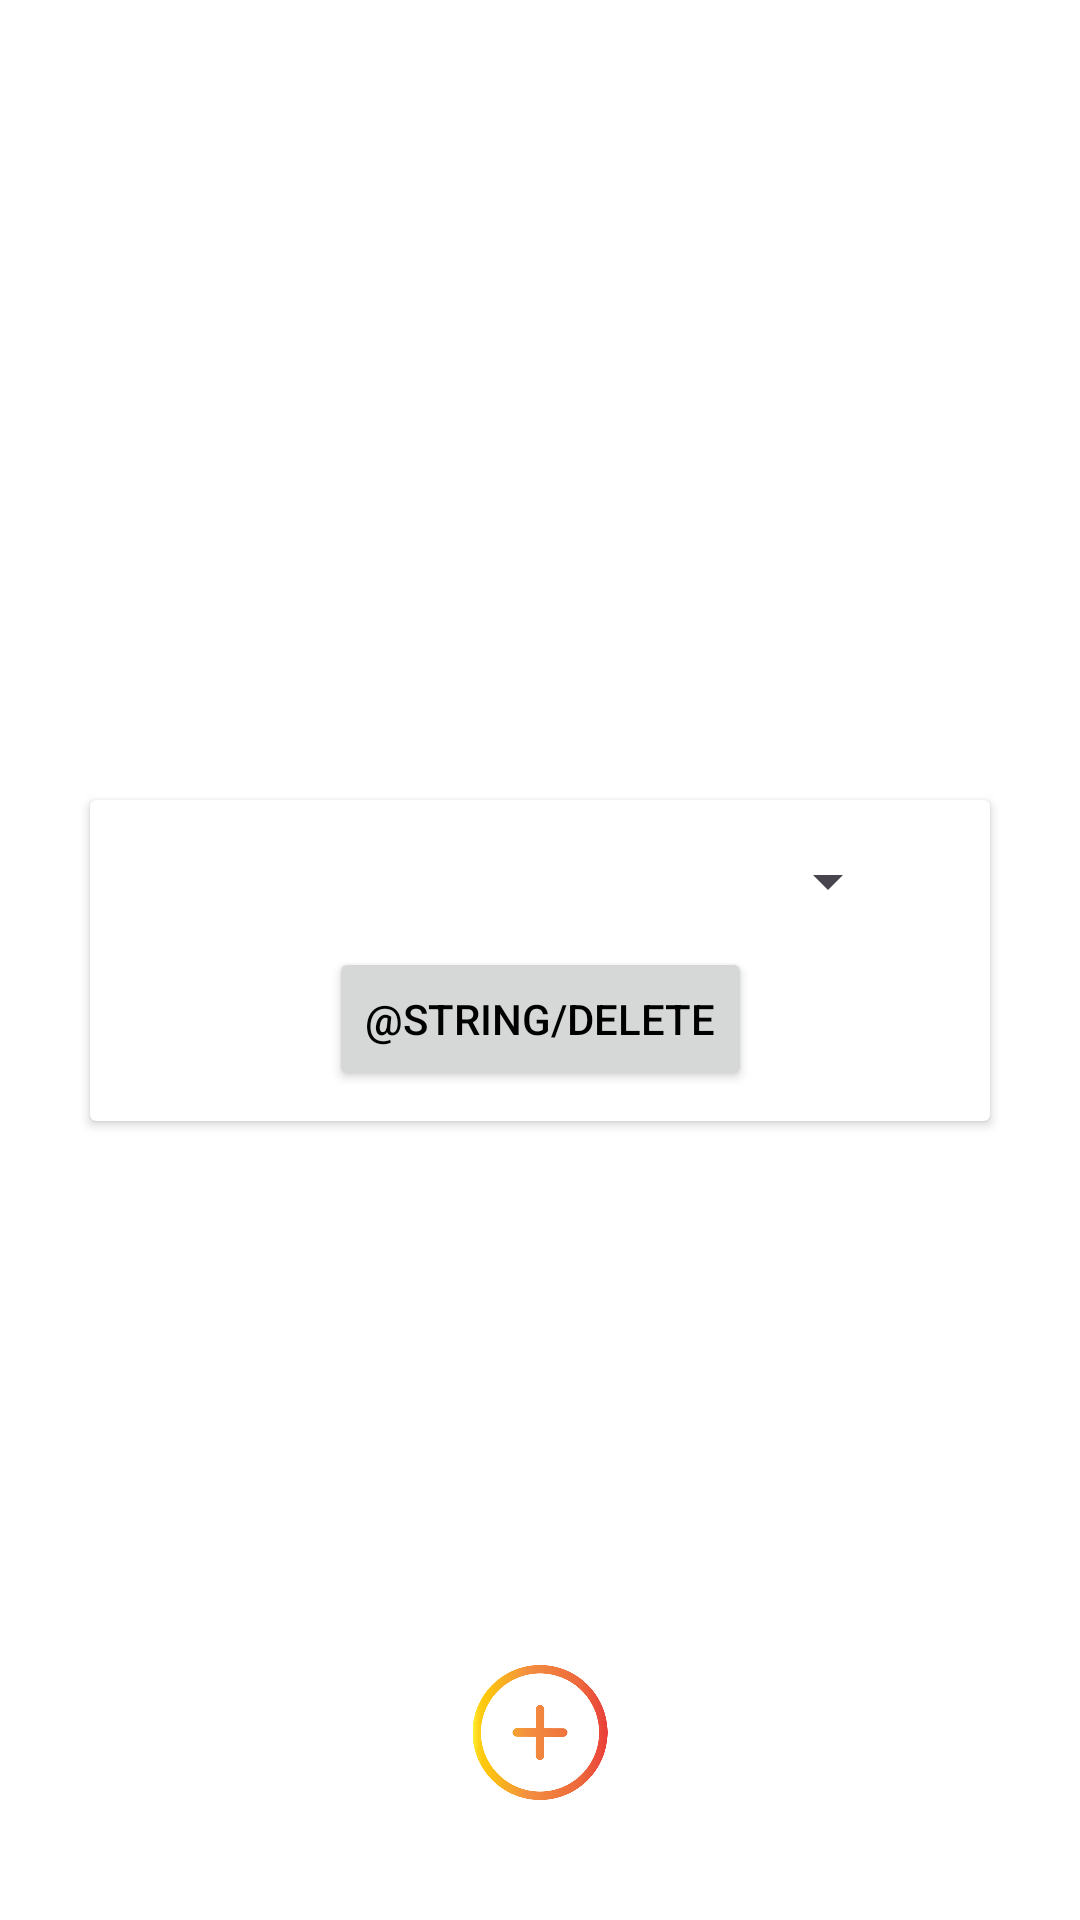

Icon click points for this 1080px×1920px phone screenshot, format [x,y]:
addicon: [540,1732]
